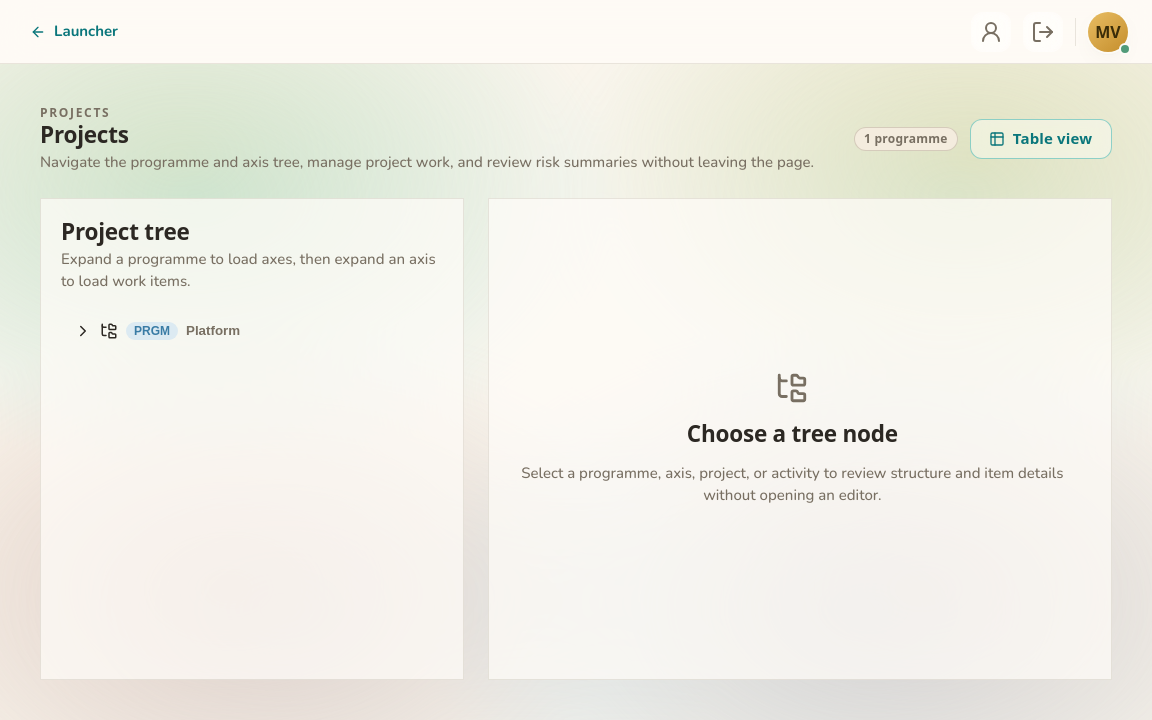
Scenario: Projects page › lazily expands programmes and axes and renders compact tree rows without risk or badge clusters
The width and height of the screenshot is (1152, 720).
Click the button "PRGM Platform": (240, 331) x1=61 y1=313 x2=420 y2=349
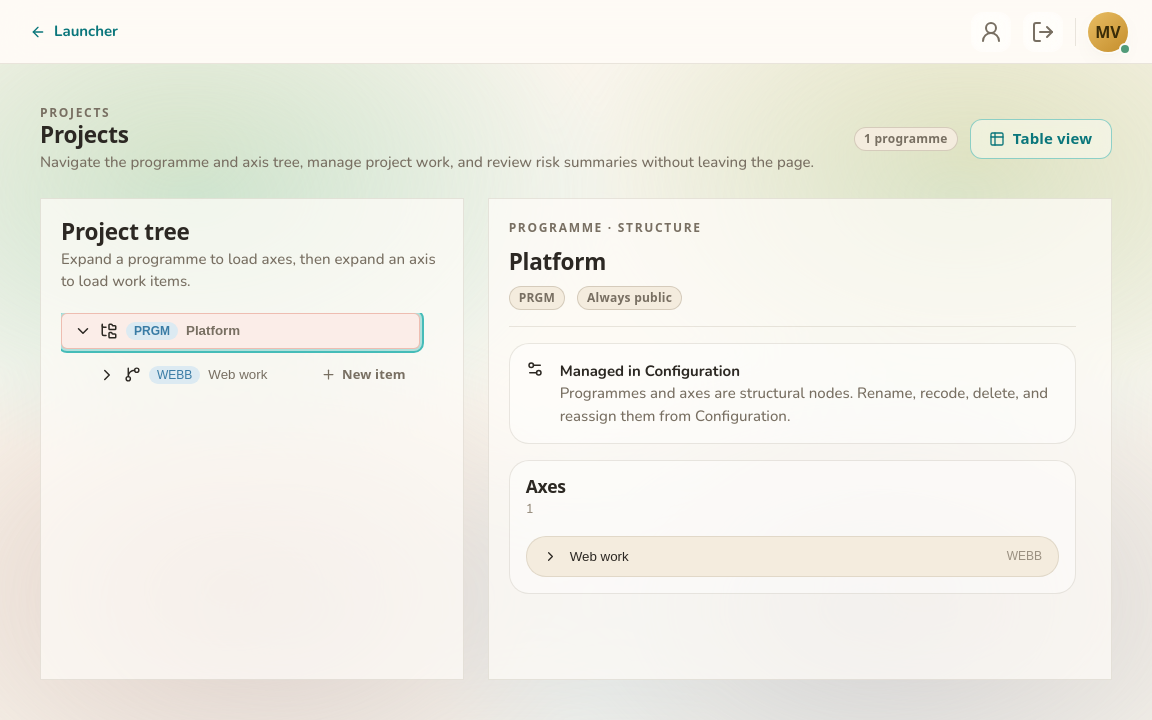
Click the button "WEBB Web work": (188, 375) x1=85 y1=357 x2=290 y2=393
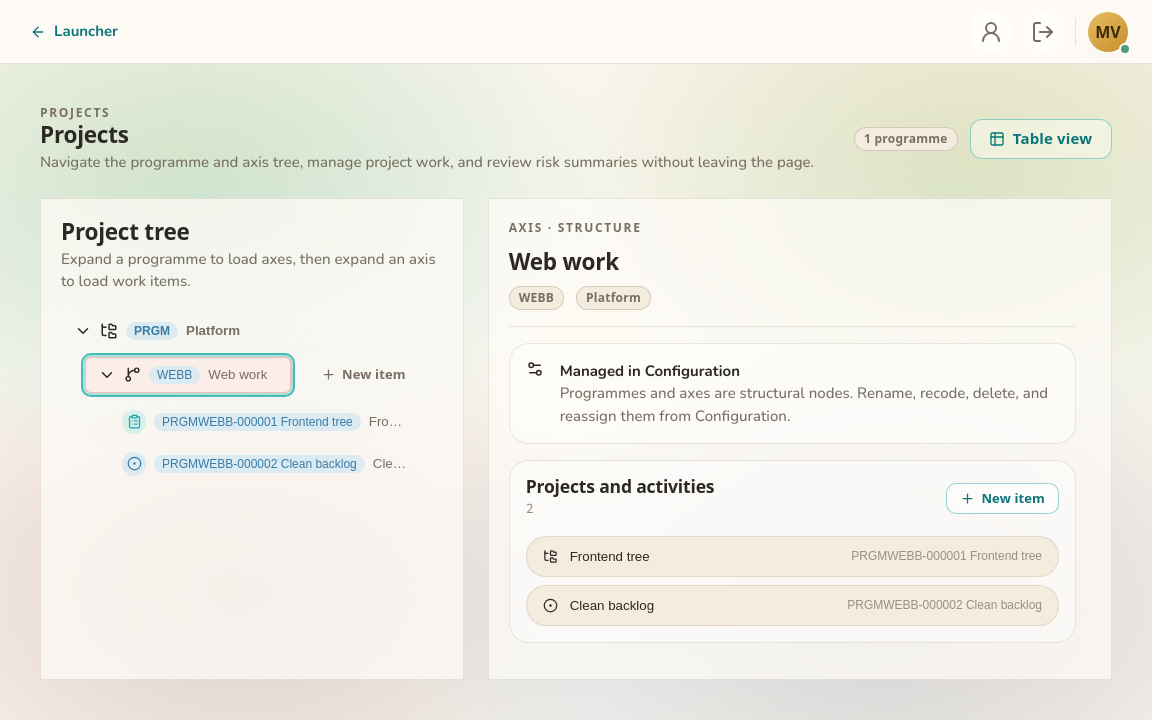
Expected: the text "public" is gone
